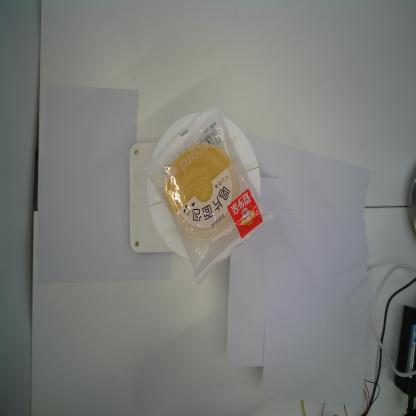Dessert: (140, 103, 273, 286)
